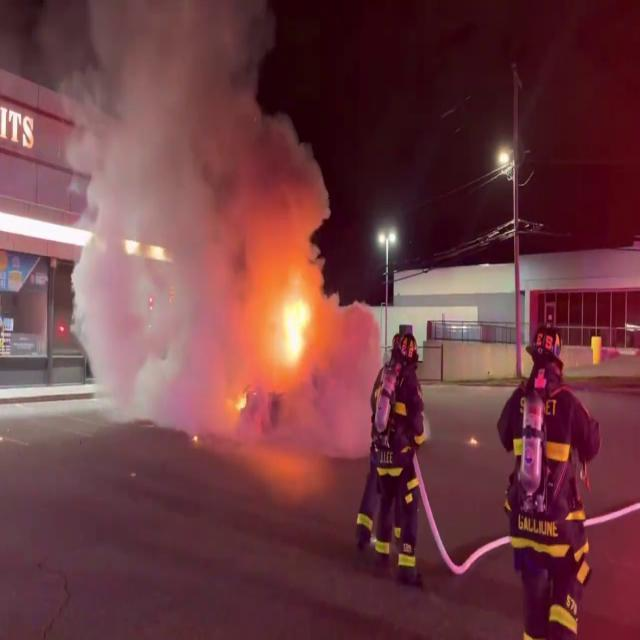Fire: (266, 262, 319, 374)
Smoke: (64, 0, 334, 417)
